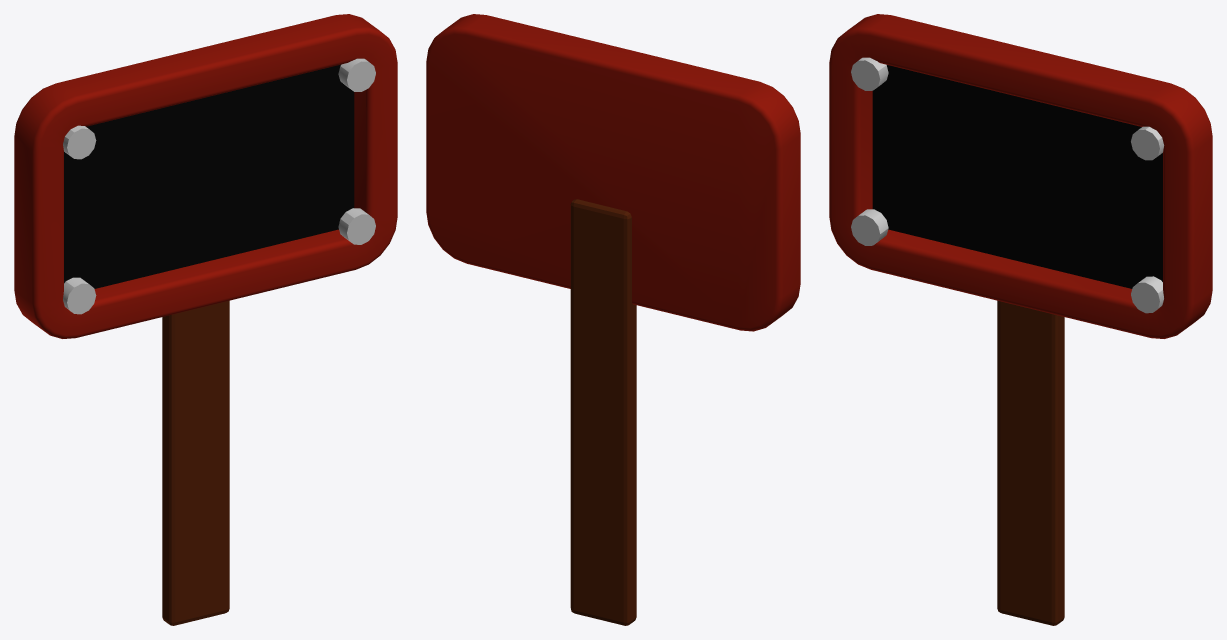
The model's file is highScore_sing.fbx.
The picture shows the model from 3 angles, left to right: view 1: azimuth 30°, elevation 25°; view 2: azimuth 150°, elevation 25°; view 3: azimuth 330°, elevation 25°; orthographic projection. The views are drawn at different scales.
Visible parts, largest first — view 1: sing, sing2; view 2: sing, sing2; view 3: sing, sing2.
Part boxes in pixels (x1,y1,x2,y2): sing: [14, 14, 397, 338]; sing2: [162, 300, 229, 625]; sing: [426, 14, 800, 331]; sing2: [570, 199, 636, 625]; sing: [829, 14, 1212, 338]; sing2: [997, 300, 1064, 625].
Size of the model in its own units: 141 by 210 by 20.62.
